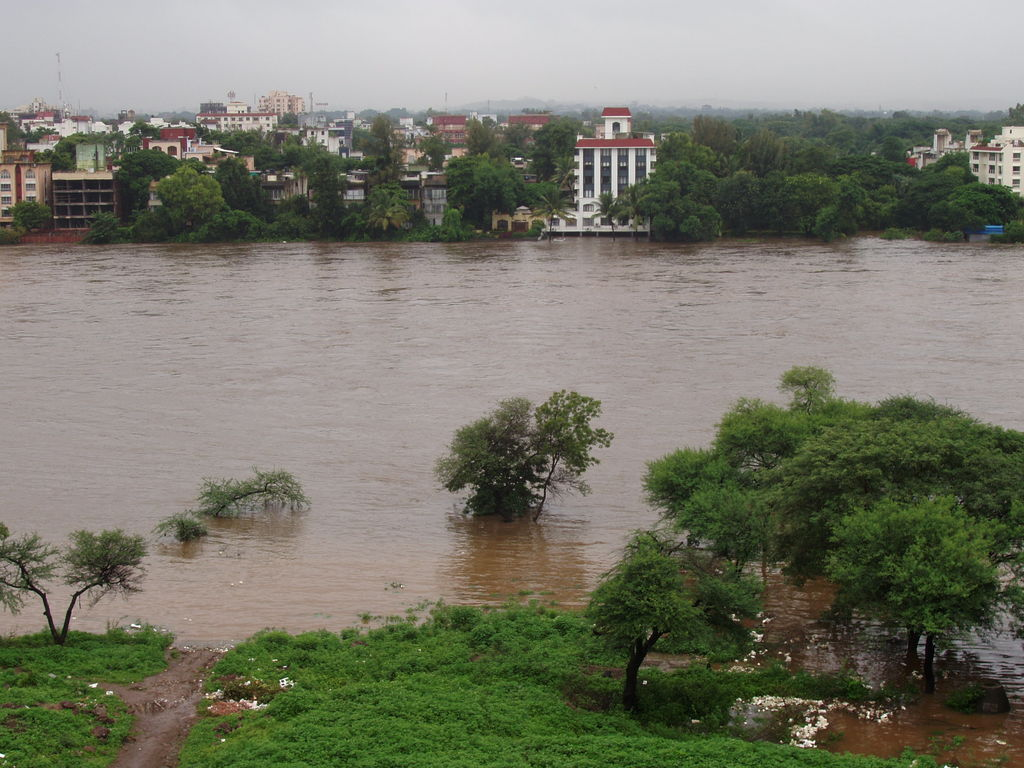Tree: (640, 363, 1024, 695), (588, 101, 1024, 247), (81, 111, 421, 237), (579, 526, 765, 716), (428, 385, 617, 528), (0, 517, 151, 646), (439, 117, 576, 229), (193, 463, 313, 520), (148, 507, 210, 548), (8, 196, 55, 235)
